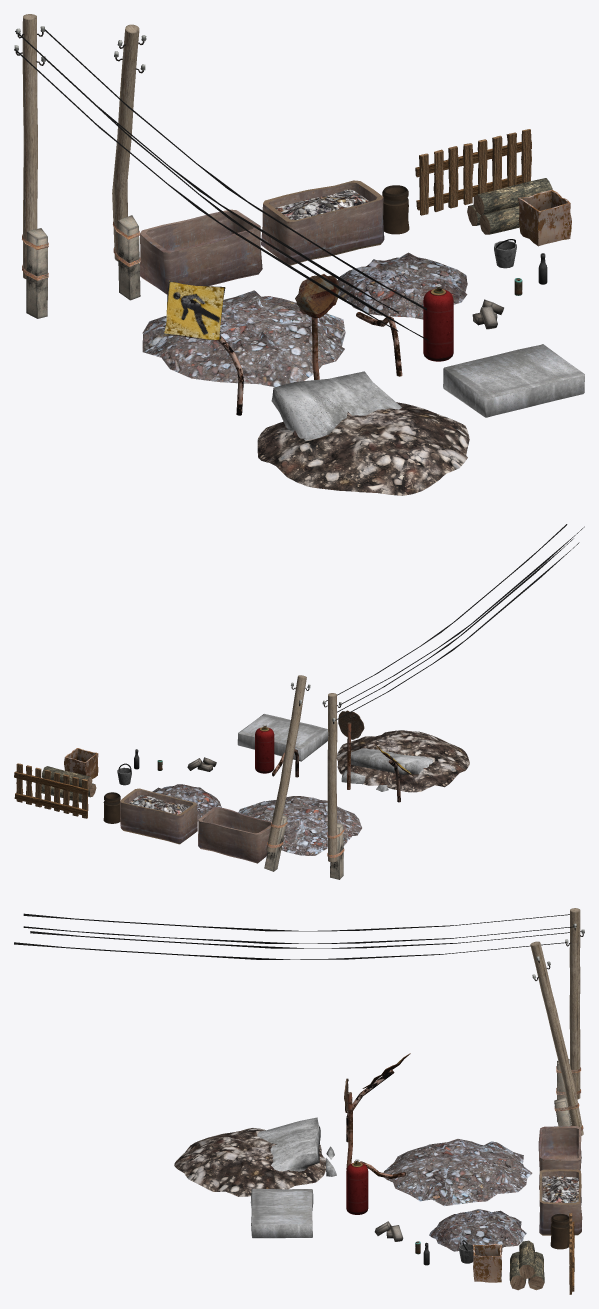
File: Objetos_pos_apocalipticos.fbx
The picture shows the model from 3 angles, top to bottom: view 1: azimuth 30°, elevation 25°; view 2: azimuth 150°, elevation 25°; view 3: azimuth 270°, elevation 25°; orthographic projection. The views are drawn at different scales.
Visible parts, largest first — view 1: Pilha_de_entulho_Forno_em_ruinas_01, Pilha_de_entulho_01, lixeira_grande_cheia_de_lixo, cacamba_grande, pedra_De_Forno_01, poste_01, cerca01, Pilha_de_entulho_pequena_01, poste_inclinado_01, fios_de_postes_01, placa01, caixa_enferrujada_01 (+5 smaller); view 2: Pilha_de_entulho_Forno_em_ruinas_01, Pilha_de_entulho_01, lixeira_grande_cheia_de_lixo, cacamba_grande, cerca01, poste_inclinado_01, poste_01, pedra_De_Forno_01, fios_de_postes_01, Pilha_de_entulho_pequena_01, botijao_de_gas, caixa_enferrujada_01 (+2 smaller); view 3: Pilha_de_entulho_Forno_em_ruinas_01, Pilha_de_entulho_01, fios_de_postes_01, pedra_De_Forno_01, Pilha_de_entulho_pequena_01, poste_inclinado_01, lixeira_grande_cheia_de_lixo, poste_01, cacamba_grande, botijao_de_gas, caixa_enferrujada_01, cesta_de_lixo (+2 smaller).
Boxes of the visible parts, x1=… form: Pilha_de_entulho_Forno_em_ruinas_01: x1=257, y1=371, x2=469, y2=495; Pilha_de_entulho_01: x1=142, y1=290, x2=345, y2=386; lixeira_grande_cheia_de_lixo: x1=261, y1=180, x2=384, y2=265; cacamba_grande: x1=139, y1=209, x2=262, y2=294; pedra_De_Forno_01: x1=443, y1=344, x2=584, y2=417; poste_01: x1=14, y1=14, x2=48, y2=318; cerca01: x1=415, y1=129, x2=531, y2=215; Pilha_de_entulho_pequena_01: x1=337, y1=252, x2=467, y2=319; poste_inclinado_01: x1=112, y1=24, x2=146, y2=300; fios_de_postes_01: x1=14, y1=29, x2=428, y2=341; placa01: x1=163, y1=280, x2=243, y2=415; caixa_enferrujada_01: x1=518, y1=190, x2=571, y2=246; Pilha_de_entulho_Forno_em_ruinas_01: x1=336, y1=730, x2=469, y2=792; Pilha_de_entulho_01: x1=238, y1=796, x2=361, y2=855; lixeira_grande_cheia_de_lixo: x1=120, y1=788, x2=197, y2=844; cacamba_grande: x1=198, y1=806, x2=271, y2=863; cerca01: x1=14, y1=763, x2=88, y2=818; poste_inclinado_01: x1=264, y1=675, x2=310, y2=871; poste_01: x1=323, y1=693, x2=344, y2=879; pedra_De_Forno_01: x1=237, y1=714, x2=328, y2=761; fios_de_postes_01: x1=322, y1=524, x2=584, y2=720; Pilha_de_entulho_pequena_01: x1=152, y1=784, x2=221, y2=821; botijao_de_gas: x1=255, y1=724, x2=274, y2=773; caixa_enferrujada_01: x1=64, y1=748, x2=98, y2=778; Pilha_de_entulho_Forno_em_ruinas_01: x1=174, y1=1117, x2=336, y2=1196; Pilha_de_entulho_01: x1=383, y1=1139, x2=532, y2=1206; fios_de_postes_01: x1=14, y1=913, x2=581, y2=959; pedra_De_Forno_01: x1=250, y1=1188, x2=313, y2=1238; Pilha_de_entulho_pequena_01: x1=429, y1=1209, x2=526, y2=1251; poste_inclinado_01: x1=530, y1=941, x2=583, y2=1135; lixeira_grande_cheia_de_lixo: x1=539, y1=1169, x2=582, y2=1235; poste_01: x1=556, y1=908, x2=584, y2=1122; cacamba_grande: x1=538, y1=1126, x2=581, y2=1189; botijao_de_gas: x1=346, y1=1159, x2=368, y2=1214; caixa_enferrujada_01: x1=472, y1=1244, x2=502, y2=1282; cesta_de_lixo: x1=550, y1=1214, x2=569, y2=1249.
Size of the model in its own units: 2112 by 1193 by 2813.
